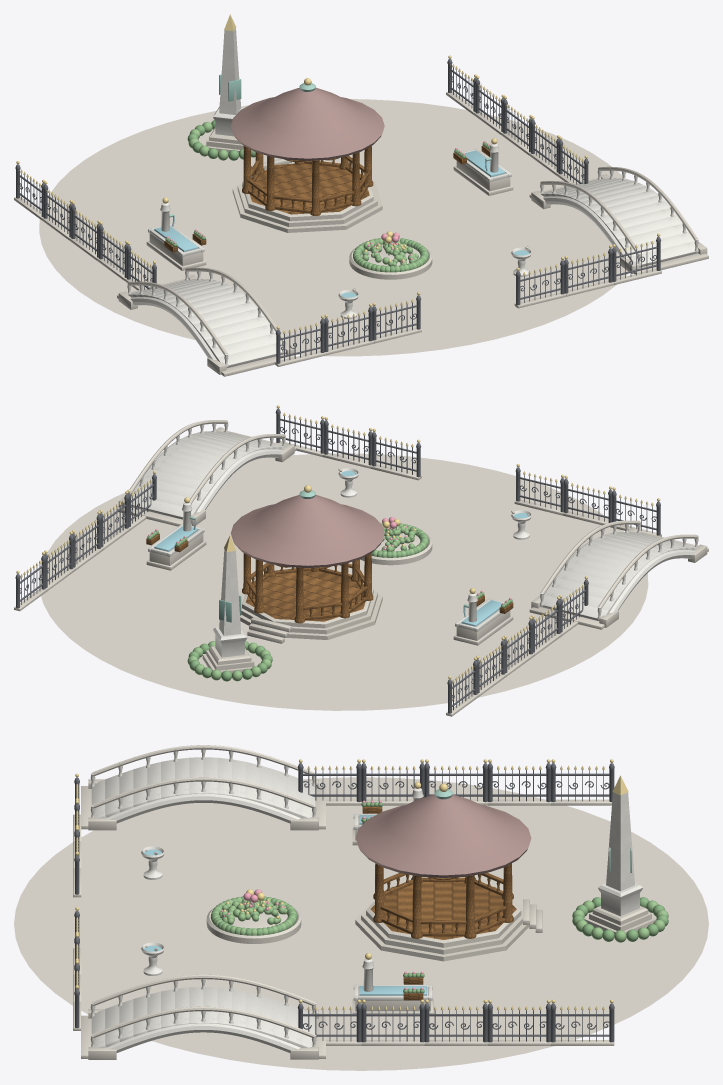
File: th36_ensemble.glb
The picture shows the model from 3 angles, top to bottom: view 1: azimuth 30°, elevation 25°; view 2: azimuth 150°, elevation 25°; view 3: azimuth 270°, elevation 25°; orthographic projection. The views are drawn at different scales.
Parts seen in each view (by area): view 1: Circle, Dach, Podest, Circle.001, Schaft, Laibung.001, Laibung.003, Einfassung, Cube.034, Cube.065, Cube.035, Cube.037 (+8 smaller); view 2: Circle, Dach, Circle.001, Podest, Schaft, Stufen, Laibung.001, Laibung.003, Postament, Cube.080, Cube.049, Cube.046 (+17 smaller); view 3: Circle, Dach, Circle.001, Podest, Schaft, Laibung.002, Laibung, Stufen, Handlauf, Handlauf.002, Handlauf.003, Handlauf.001 (+9 smaller).
Part boxes in pixels (bbox=[...]): Circle: bbox=[39, 99, 628, 356]; Dach: bbox=[231, 87, 384, 160]; Podest: bbox=[232, 163, 382, 232]; Circle.001: bbox=[250, 163, 369, 214]; Schaft: bbox=[219, 28, 241, 114]; Laibung.001: bbox=[130, 297, 216, 359]; Laibung.003: bbox=[543, 196, 629, 259]; Einfassung: bbox=[349, 247, 432, 279]; Cube.034: bbox=[217, 342, 285, 367]; Cube.065: bbox=[629, 241, 698, 267]; Cube.035: bbox=[211, 333, 281, 358]; Cube.037: bbox=[199, 316, 269, 341]; Circle: bbox=[39, 453, 648, 710]; Dach: bbox=[230, 494, 384, 567]; Circle.001: bbox=[245, 570, 365, 621]; Podest: bbox=[238, 568, 382, 639]; Schaft: bbox=[219, 549, 241, 635]; Stufen: bbox=[202, 646, 256, 674]; Laibung.001: bbox=[609, 550, 695, 612]; Laibung.003: bbox=[196, 449, 282, 512]; Postament: bbox=[213, 627, 247, 657]; Cube.080: bbox=[131, 494, 196, 519]; Cube.049: bbox=[540, 595, 608, 620]; Cube.046: bbox=[556, 569, 627, 594]; Circle: bbox=[14, 777, 708, 1070]; Dach: bbox=[356, 794, 531, 877]; Circle.001: bbox=[370, 882, 516, 939]; Podest: bbox=[355, 886, 529, 961]; Schaft: bbox=[606, 792, 634, 891]; Laibung.002: bbox=[106, 1023, 300, 1052]; Laibung: bbox=[106, 793, 300, 823]; Stufen: bbox=[584, 906, 656, 933]; Handlauf: bbox=[92, 777, 314, 808]; Handlauf.002: bbox=[92, 1006, 314, 1037]; Handlauf.003: bbox=[92, 974, 314, 1005]; Handlauf.001: bbox=[92, 745, 314, 776].
Bounding box in the file's own units: 22 × 5.2 × 22.
94 materials, 10 textured.
